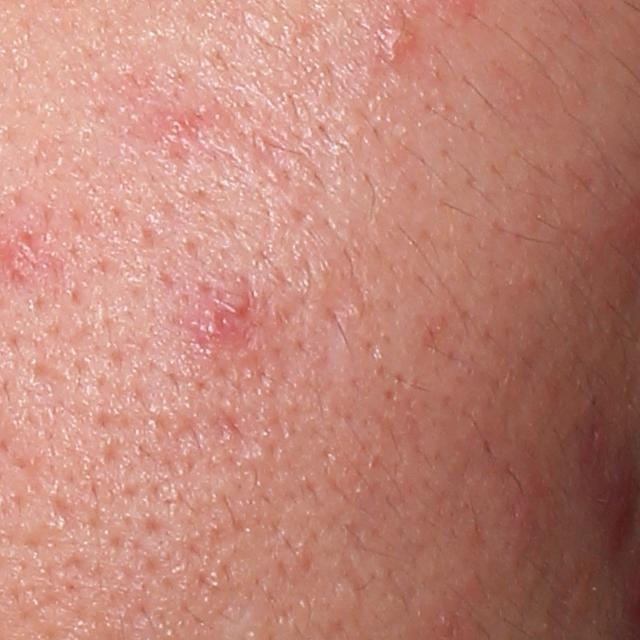papule: (195, 274, 261, 351), (374, 15, 422, 78)
